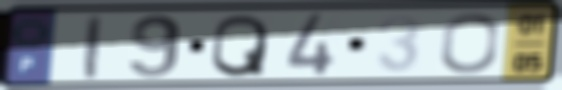3: (375, 12, 427, 76)
4: (283, 11, 339, 79)
9: (126, 13, 182, 80)
I: (82, 13, 105, 82)
O: (437, 11, 503, 76)
Q: (208, 12, 271, 79)
